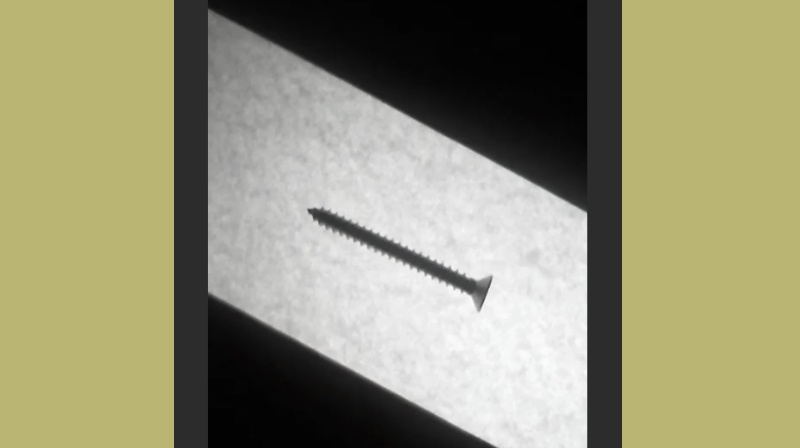S002: (304, 204, 494, 317)
